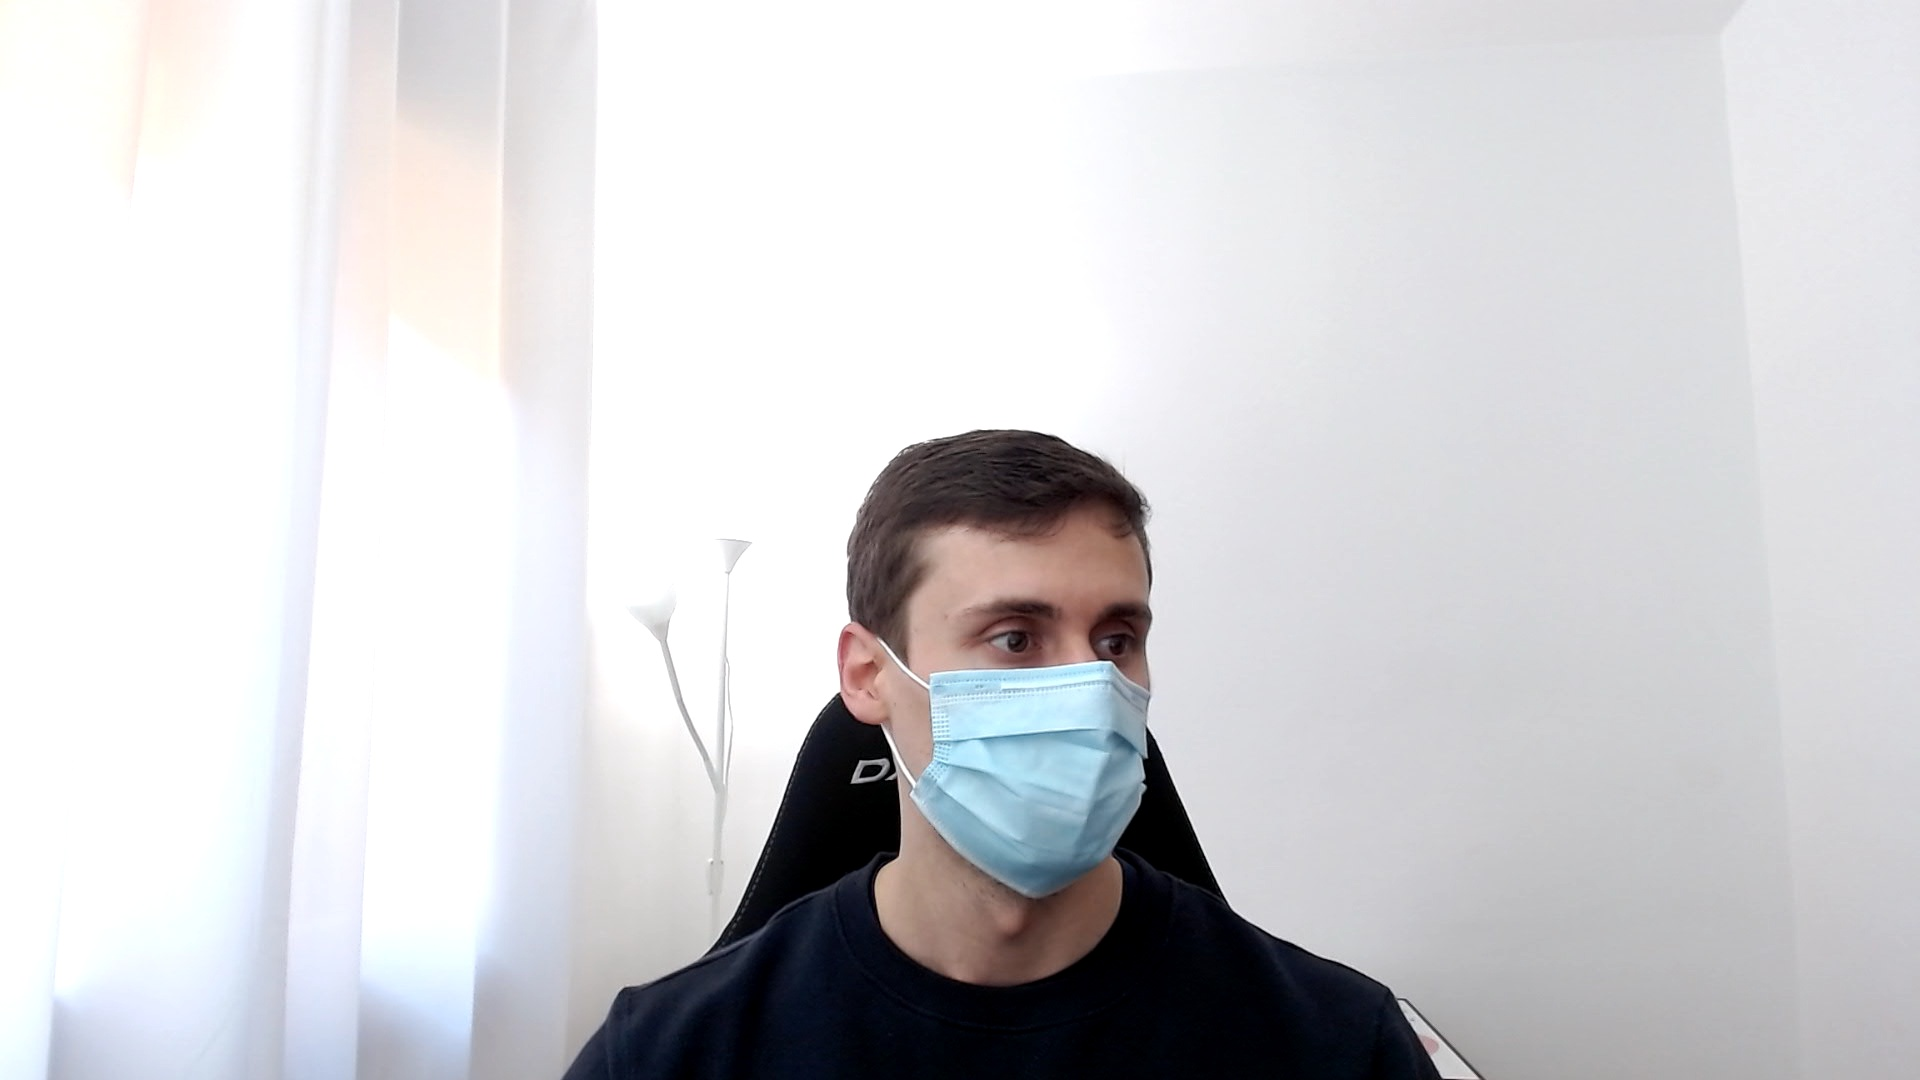Mask: (839, 430, 1153, 899)
